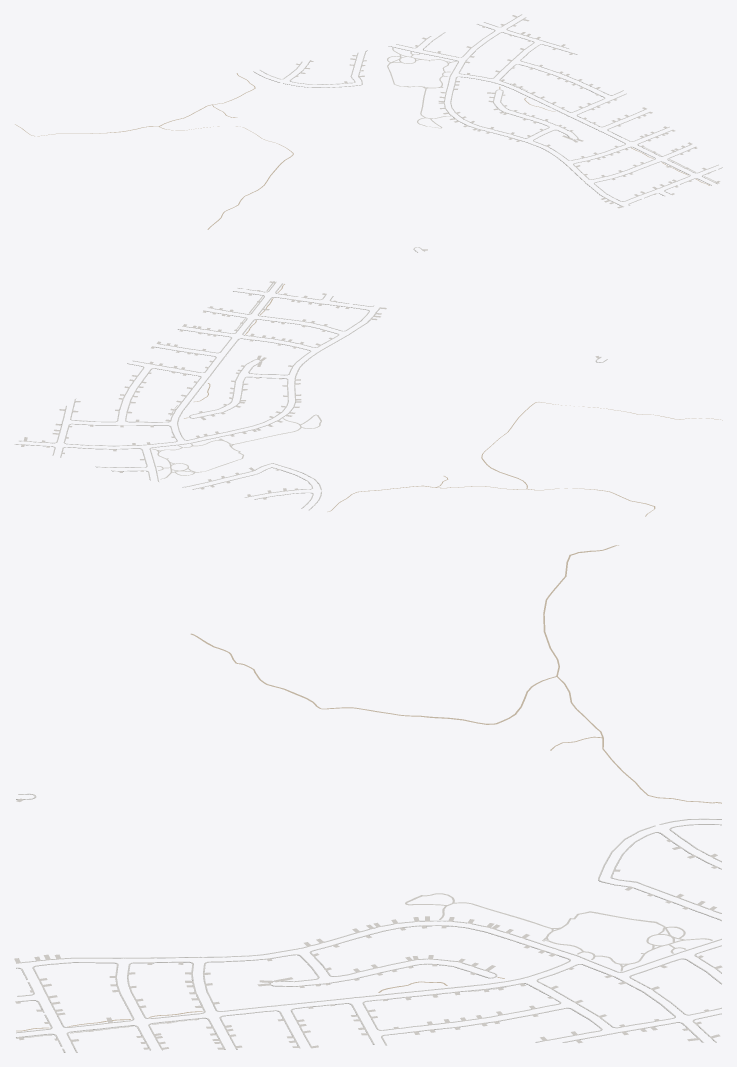
Rendered from ground_r1_c4.glb.
3 renders of one model, top to bottom at view 1: azimuth 30°, elevation 25°; view 2: azimuth 150°, elevation 25°; view 3: azimuth 270°, elevation 25°, orthographic. The views are drawn at different scales.
Visible parts, largest first — view 1: sidewalks, driveways, paths; view 2: sidewalks, driveways, paths; view 3: sidewalks, driveways, paths.
Boxes of the visible parts, x1,y1,x2,y2 form: sidewalks: (253,14,722,252); driveways: (295,15,720,250); paths: (15,47,719,229); sidewalks: (14,281,607,510); driveways: (21,281,600,499); paths: (152,281,722,516); sidewalks: (16,793,721,1052); driveways: (14,798,722,1049); paths: (16,545,721,1038).
Size of the model in its own units: 1128 by 102 by 791.
